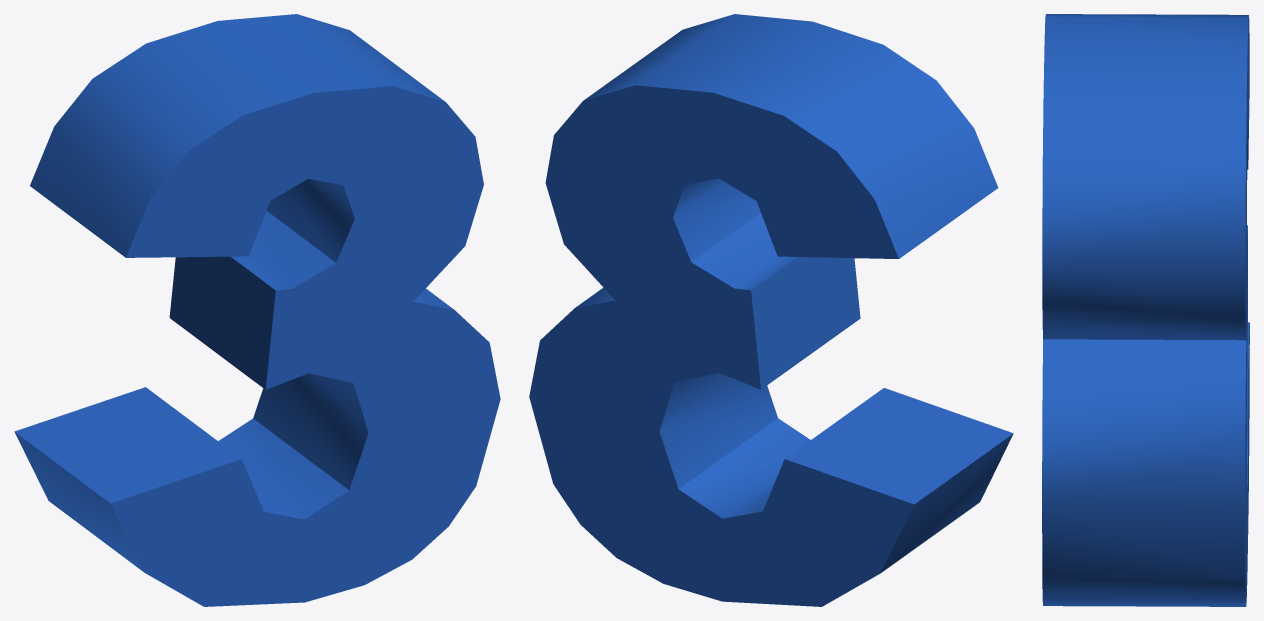
Rendered from three.glb.
3 views of the same model, side by side, from view 1: azimuth 30°, elevation 25°; view 2: azimuth 150°, elevation 25°; view 3: azimuth 270°, elevation 25° (orthographic). The views are drawn at different scales.
Visible parts, largest first — view 1: Object_9; view 2: Object_9; view 3: Object_9.
Boxes of the visible parts, box(x1,y1,x2,y2) form: Object_9: box(14, 14, 500, 606); Object_9: box(529, 14, 1013, 606); Object_9: box(1042, 14, 1249, 606).
Bounding box in the file's own units: 9.19 × 11.44 × 4.09.
